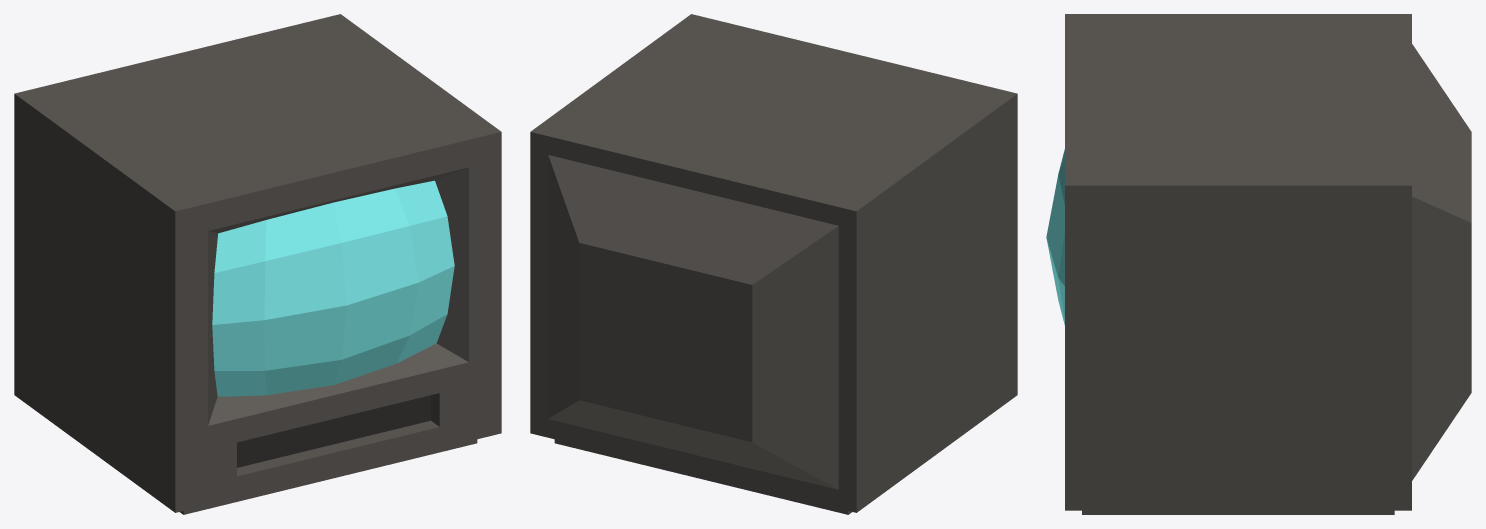
Rendered from OneTv.fbx.
3 views of the same model, side by side, from view 1: azimuth 30°, elevation 25°; view 2: azimuth 150°, elevation 25°; view 3: azimuth 270°, elevation 25° (orthographic). The views are drawn at different scales.
Visible parts, largest first — view 1: TVTower1; view 2: TVTower1; view 3: TVTower1.
Boxes of the visible parts, box(x1,y1,x2,y2) form: TVTower1: box(14, 14, 501, 514); TVTower1: box(530, 14, 1017, 514); TVTower1: box(1046, 14, 1471, 514).
Bounding box in the file's own units: 54.55 × 50.06 × 57.11.
